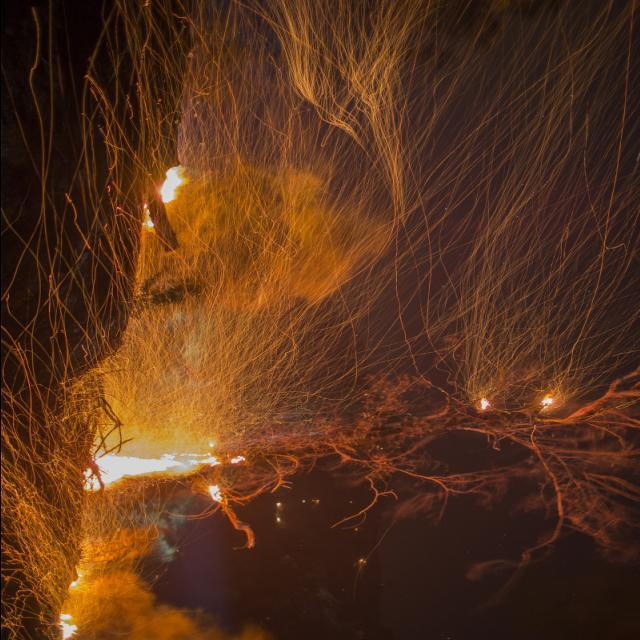Fire: (74, 438, 232, 515), (128, 154, 190, 236)
